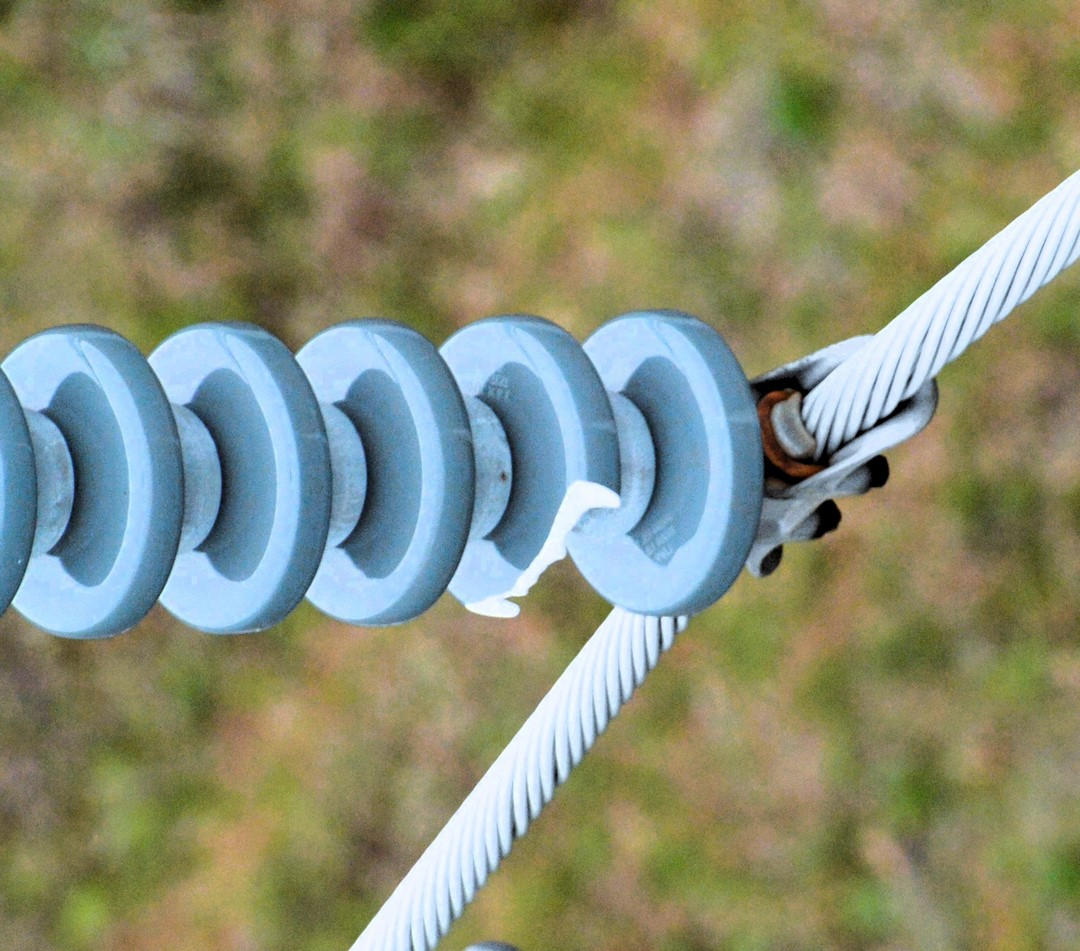insulator breakage: (444, 303, 628, 633)
